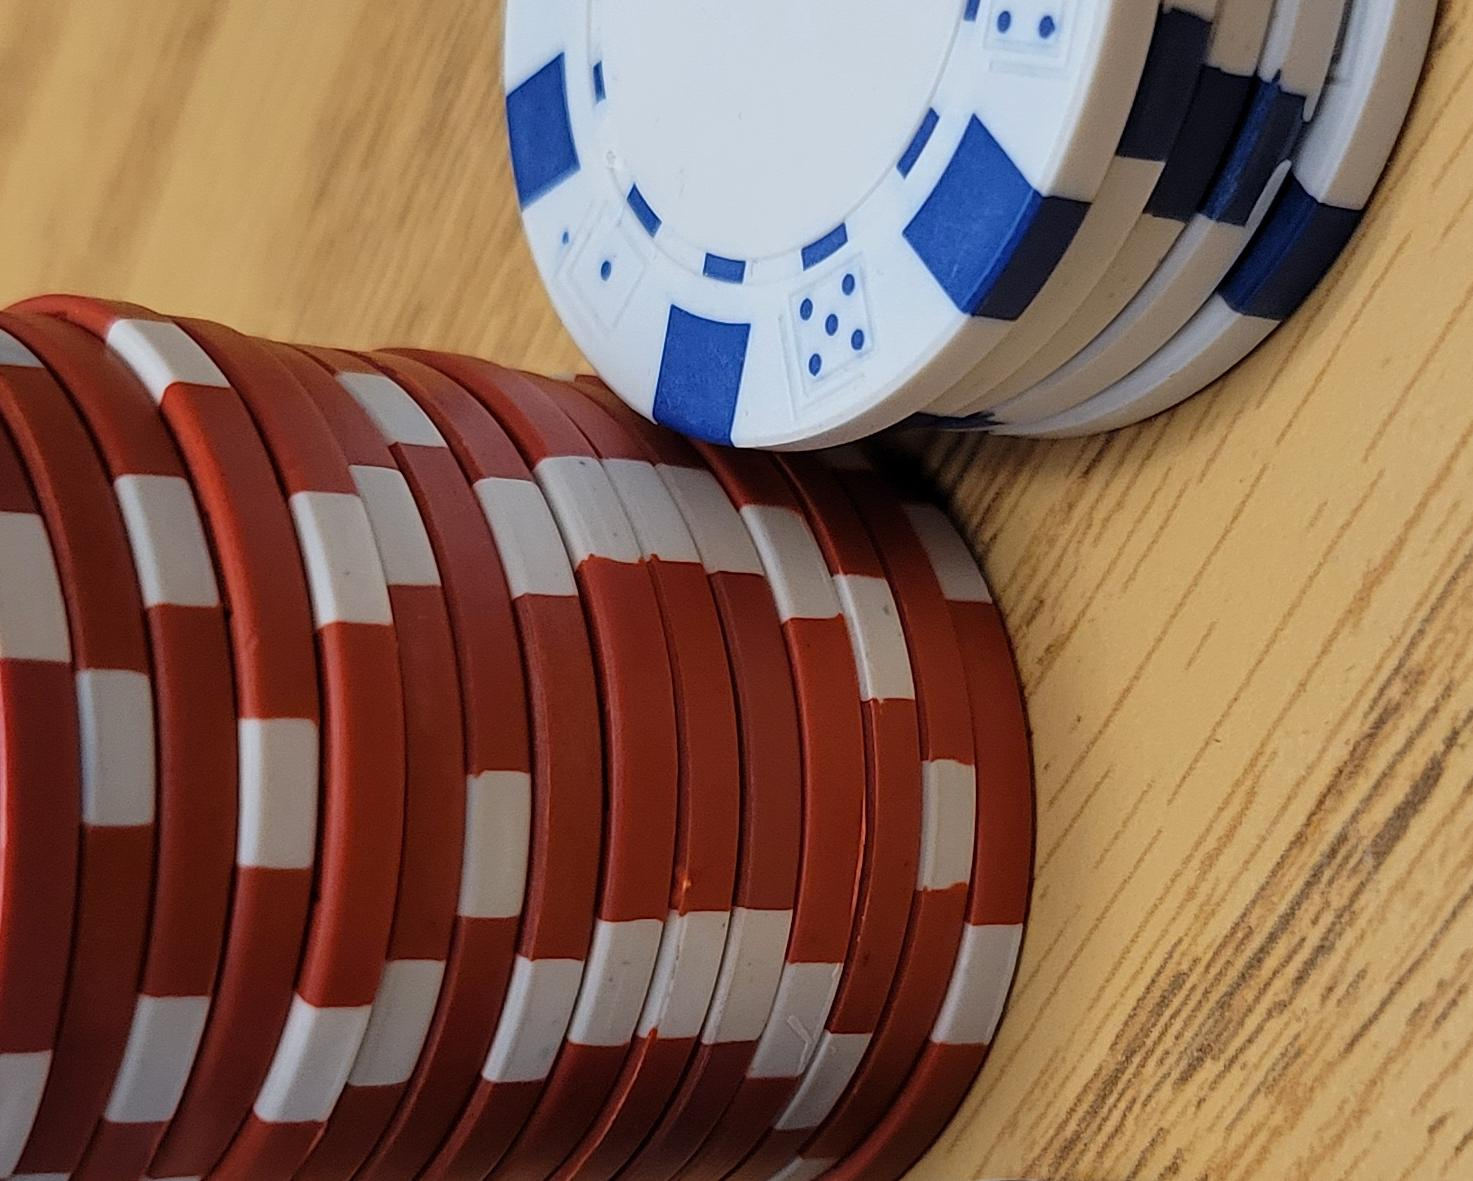Chip: (1, 222, 774, 1181)
